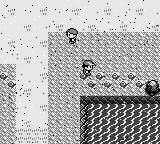captura: (89, 104, 160, 143)
main: (82, 60, 95, 75)
mo: (80, 96, 160, 143)
no-caminable: (145, 80, 160, 95)
npc: (65, 28, 78, 44)
